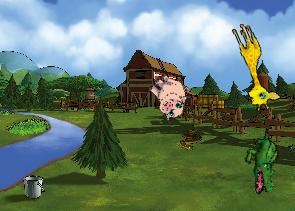crocodile: (236, 128, 290, 196)
giraffe: (220, 20, 283, 114)
pig: (140, 67, 196, 123)
